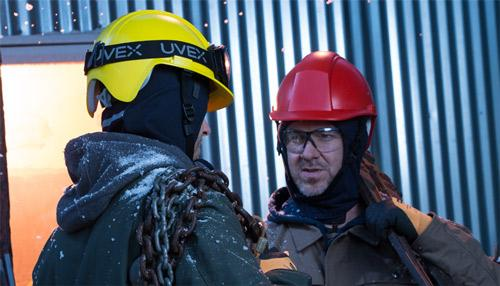helmet: (87, 10, 235, 117), (269, 50, 380, 125)
